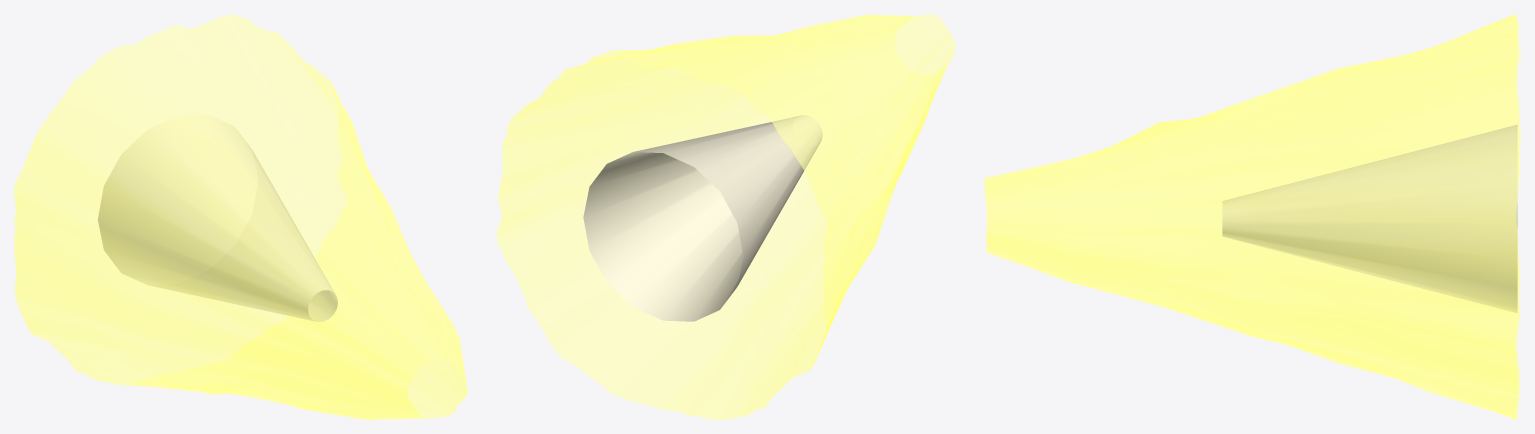
The model's file is EMBERFANG_breathflare_vfx.fbx.
The picture shows the model from 3 angles, left to right: view 1: azimuth 30°, elevation 25°; view 2: azimuth 150°, elevation 25°; view 3: azimuth 270°, elevation 25°; orthographic projection. The views are drawn at different scales.
Visible parts, largest first — view 1: EMBERFANG_breathflare_vfx; view 2: EMBERFANG_breathflare_vfx; view 3: EMBERFANG_breathflare_vfx.
Part boxes in pixels (x1,y1,x2,y2): EMBERFANG_breathflare_vfx: [14, 14, 467, 419]; EMBERFANG_breathflare_vfx: [496, 14, 955, 419]; EMBERFANG_breathflare_vfx: [984, 14, 1520, 419].
Size of the model in its own units: 0.3306 by 0.3311 by 0.4542.
